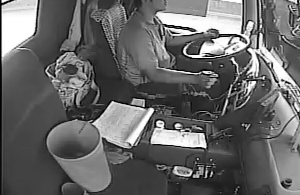cup: (153, 118, 166, 129)
